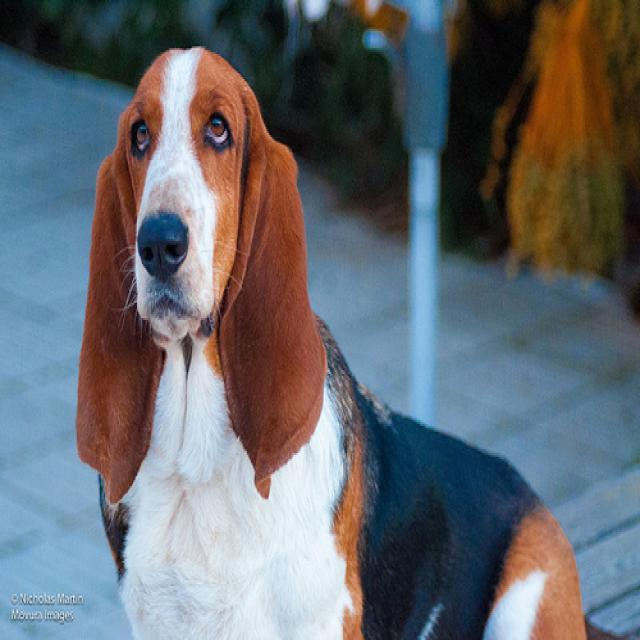dog-basset_hound: (67, 42, 637, 636)
